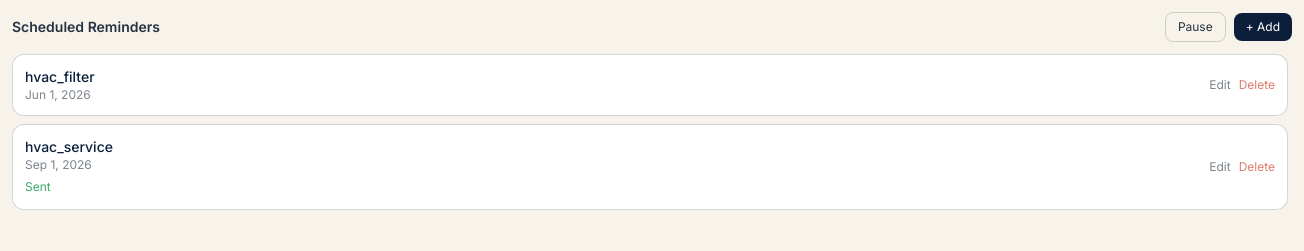
Test: RemindersPanel › shows error and does not flip the label when pause request fails
Click the button "Pause".
click(1195, 27)  # box 1165,12 -> 1226,42
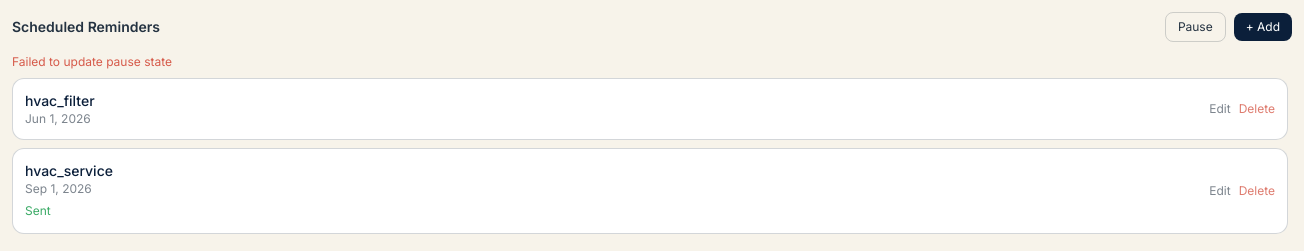
Check: the text "Failed to update pause state" is shown, box 12,54 -> 172,69
